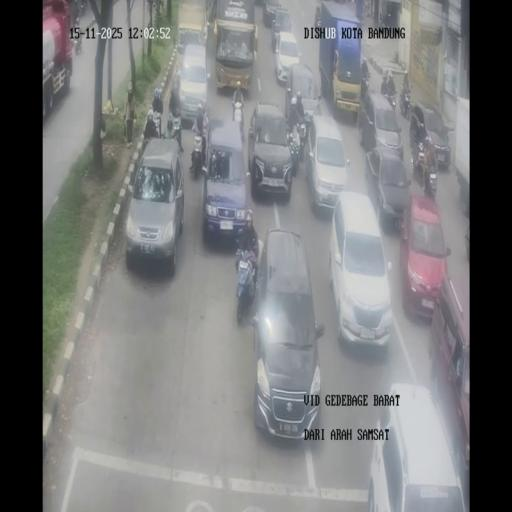3: (318, 0, 363, 118), (213, 0, 258, 93), (42, 1, 75, 123), (453, 100, 469, 218)
car: (250, 228, 323, 436), (368, 382, 466, 509), (327, 191, 392, 353), (126, 137, 185, 270), (400, 196, 448, 319), (202, 118, 247, 242), (248, 103, 294, 202), (306, 112, 349, 217), (368, 148, 412, 228), (359, 89, 403, 160), (410, 102, 451, 172), (177, 44, 209, 124), (286, 62, 320, 136), (270, 6, 294, 51)
truck: (234, 243, 258, 325), (189, 128, 205, 176), (288, 129, 302, 175), (168, 108, 183, 148), (233, 96, 245, 136), (399, 84, 411, 120), (383, 81, 397, 111), (171, 72, 181, 110), (151, 110, 162, 138), (360, 70, 370, 99), (152, 0, 165, 17), (74, 29, 82, 55), (74, 0, 86, 17), (362, 0, 371, 18), (315, 14, 321, 32), (379, 10, 384, 23)
